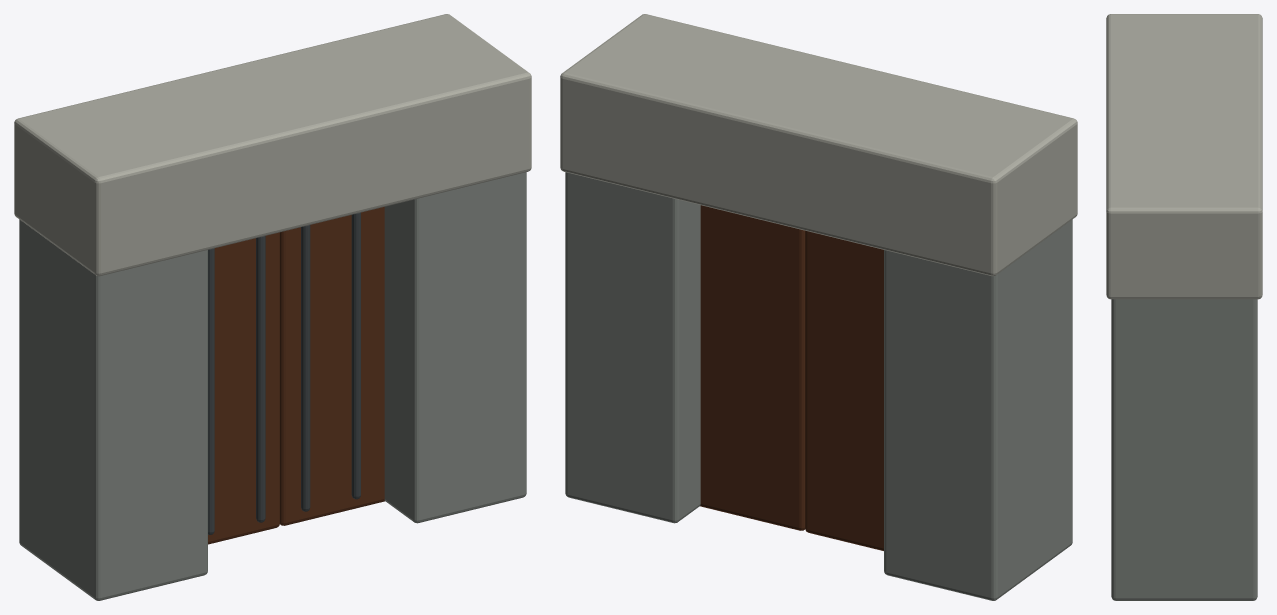
The model's file is SM_StoneGate.fbx.
3 renders of one model, left to right at view 1: azimuth 30°, elevation 25°; view 2: azimuth 150°, elevation 25°; view 3: azimuth 270°, elevation 25°, orthographic. The views are drawn at different scales.
Parts seen in each view (by area): view 1: SM_StoneGate; view 2: SM_StoneGate; view 3: SM_StoneGate.
Boxes of the visible parts, bbox=[...] form: SM_StoneGate: bbox=[14, 14, 531, 600]; SM_StoneGate: bbox=[560, 14, 1077, 600]; SM_StoneGate: bbox=[1106, 14, 1262, 600].
Bounding box in the file's own units: 370 × 124 × 345.
